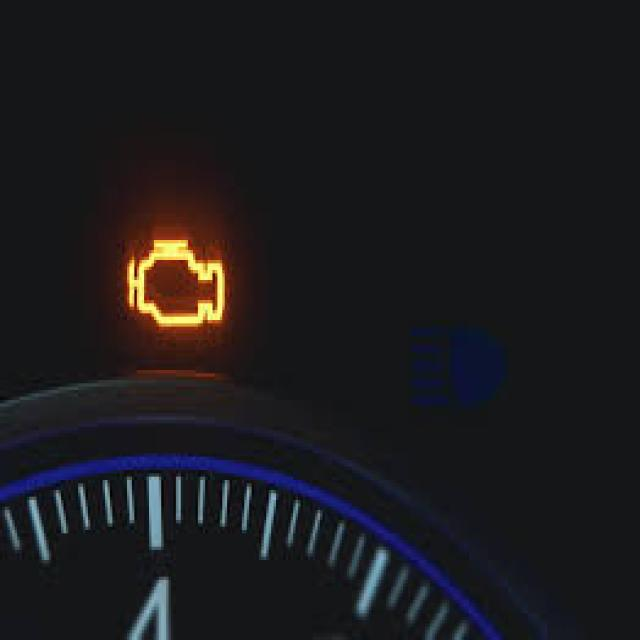kontrolka: (118, 230, 234, 342)
